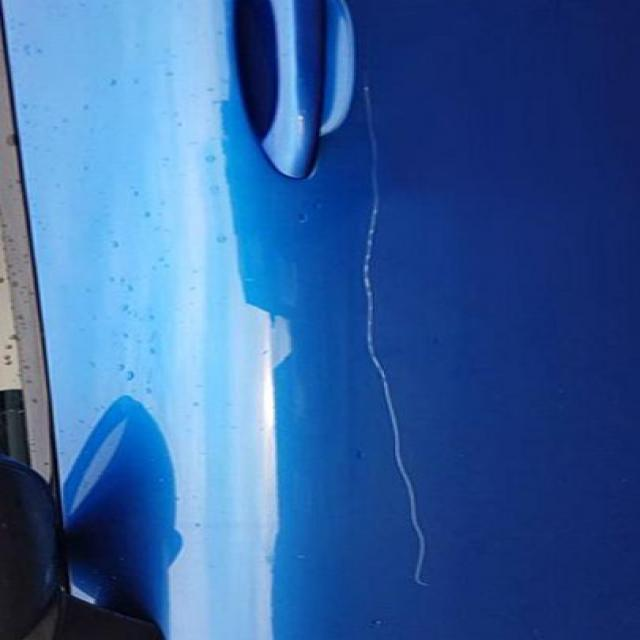scratch: (342, 78, 470, 604)
